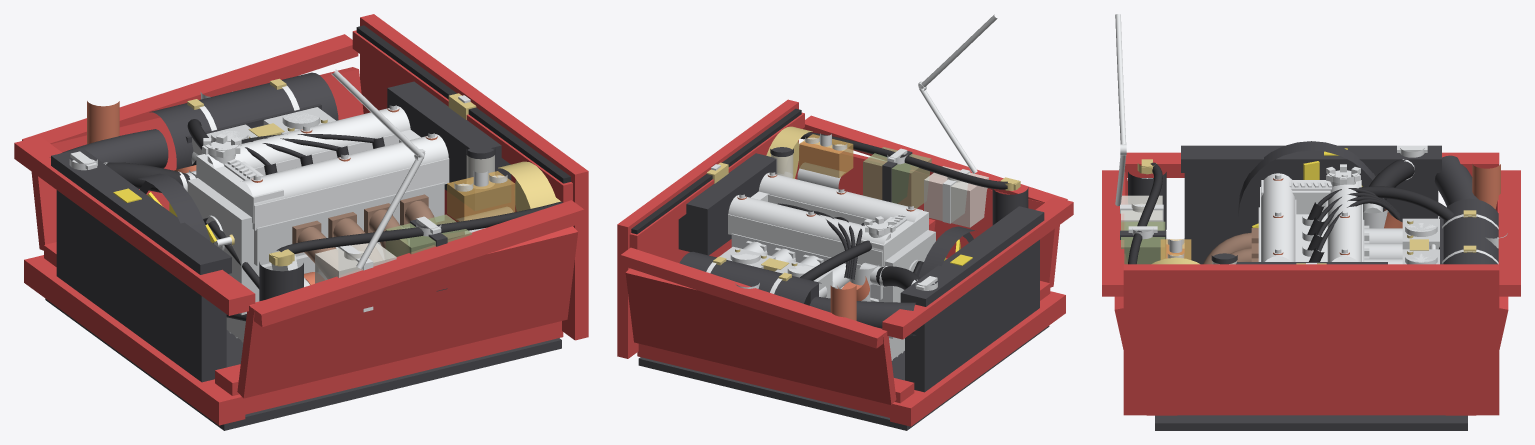
File: alfetta-bialbero-engine.glb
3 renders of one model, left to right at view 1: azimuth 30°, elevation 25°; view 2: azimuth 150°, elevation 25°; view 3: azimuth 270°, elevation 25°, orthographic. The views are drawn at different scales.
Parts seen in each view (by area): view 1: EngineBay_Root, Hood_Stay_Left; view 2: EngineBay_Root, Hood_Stay_Left; view 3: EngineBay_Root, Hood_Stay_Left.
Part boxes in pixels (x1=…): EngineBay_Root: x1=14, y1=14, x2=588, y2=430; Hood_Stay_Left: x1=331, y1=69, x2=425, y2=269; EngineBay_Root: x1=617, y1=99, x2=1073, y2=430; Hood_Stay_Left: x1=918, y1=14, x2=997, y2=173; EngineBay_Root: x1=1102, y1=141, x2=1520, y2=430; Hood_Stay_Left: x1=1115, y1=14, x2=1126, y2=206.
Size of the model in its own units: 0.522 by 0.4938 by 0.602.
